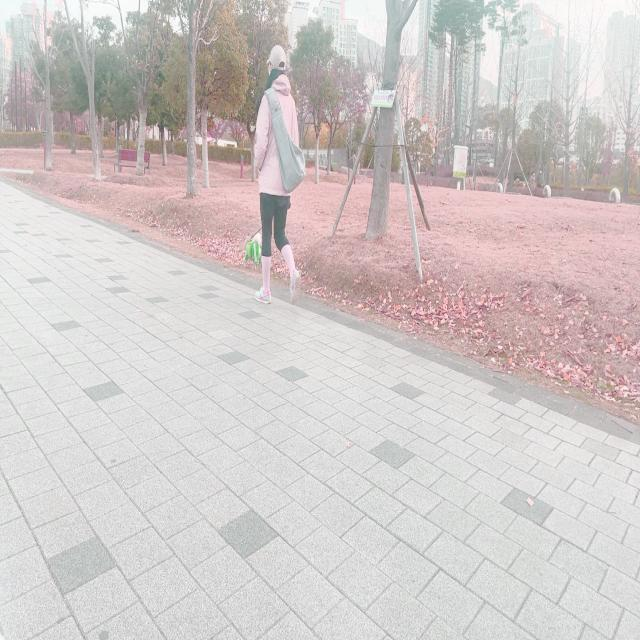Leashed_Dog: (242, 192, 272, 272)
